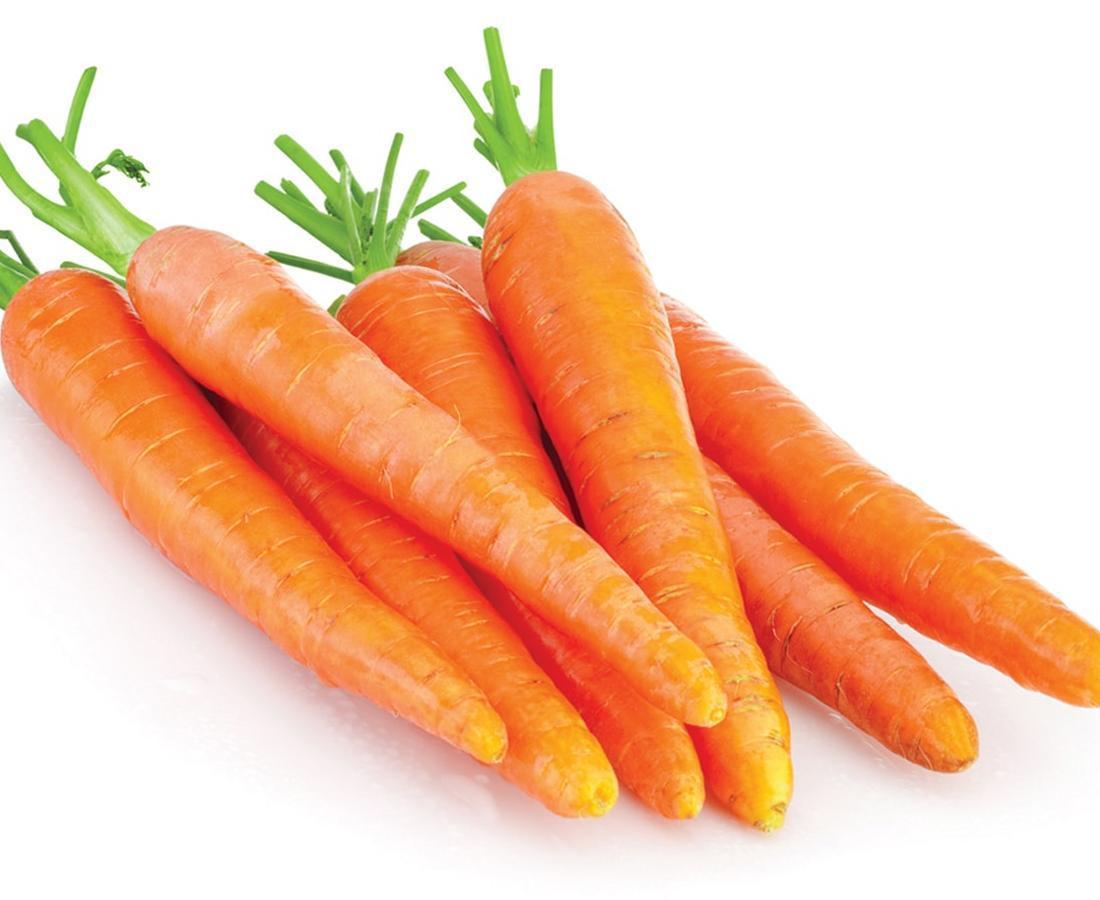carrot: (2, 71, 1100, 828), (129, 220, 1014, 762)
